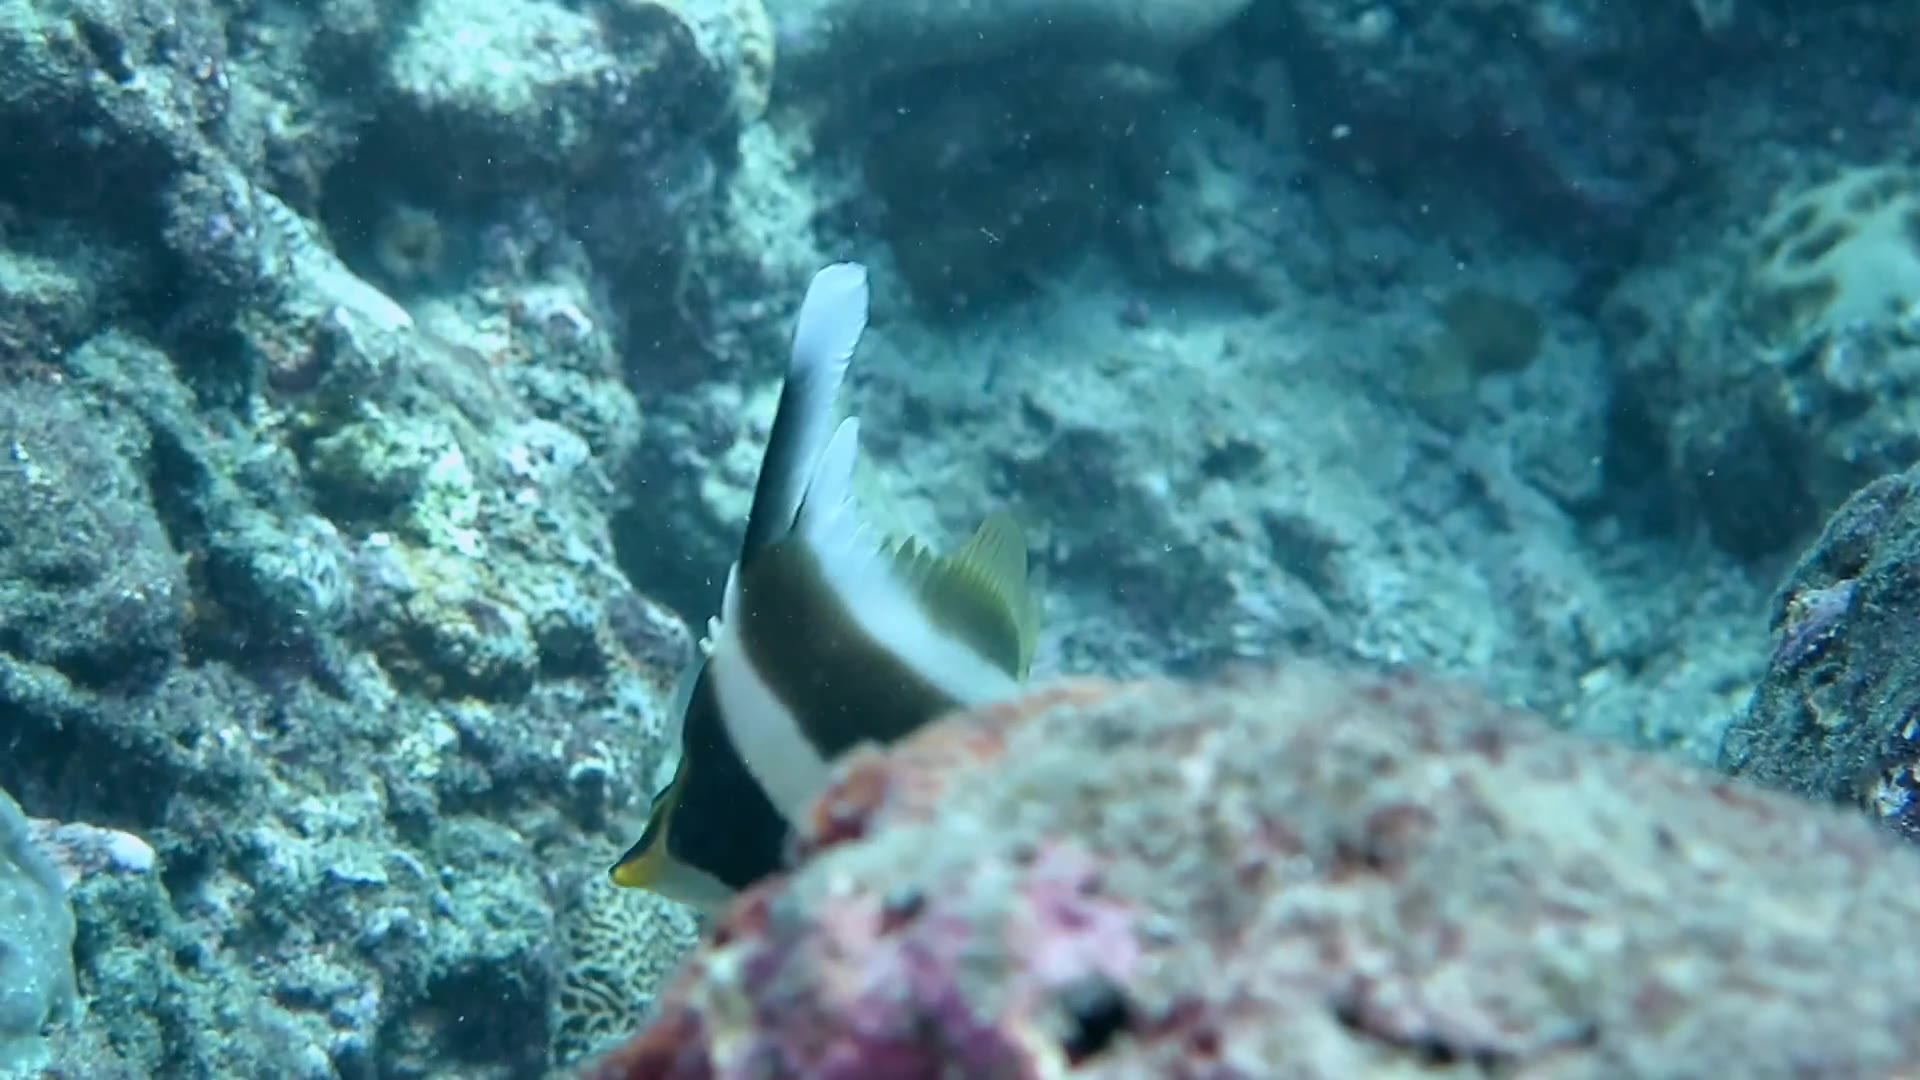Heniochus chrysostomus: (549, 173, 1091, 942)
